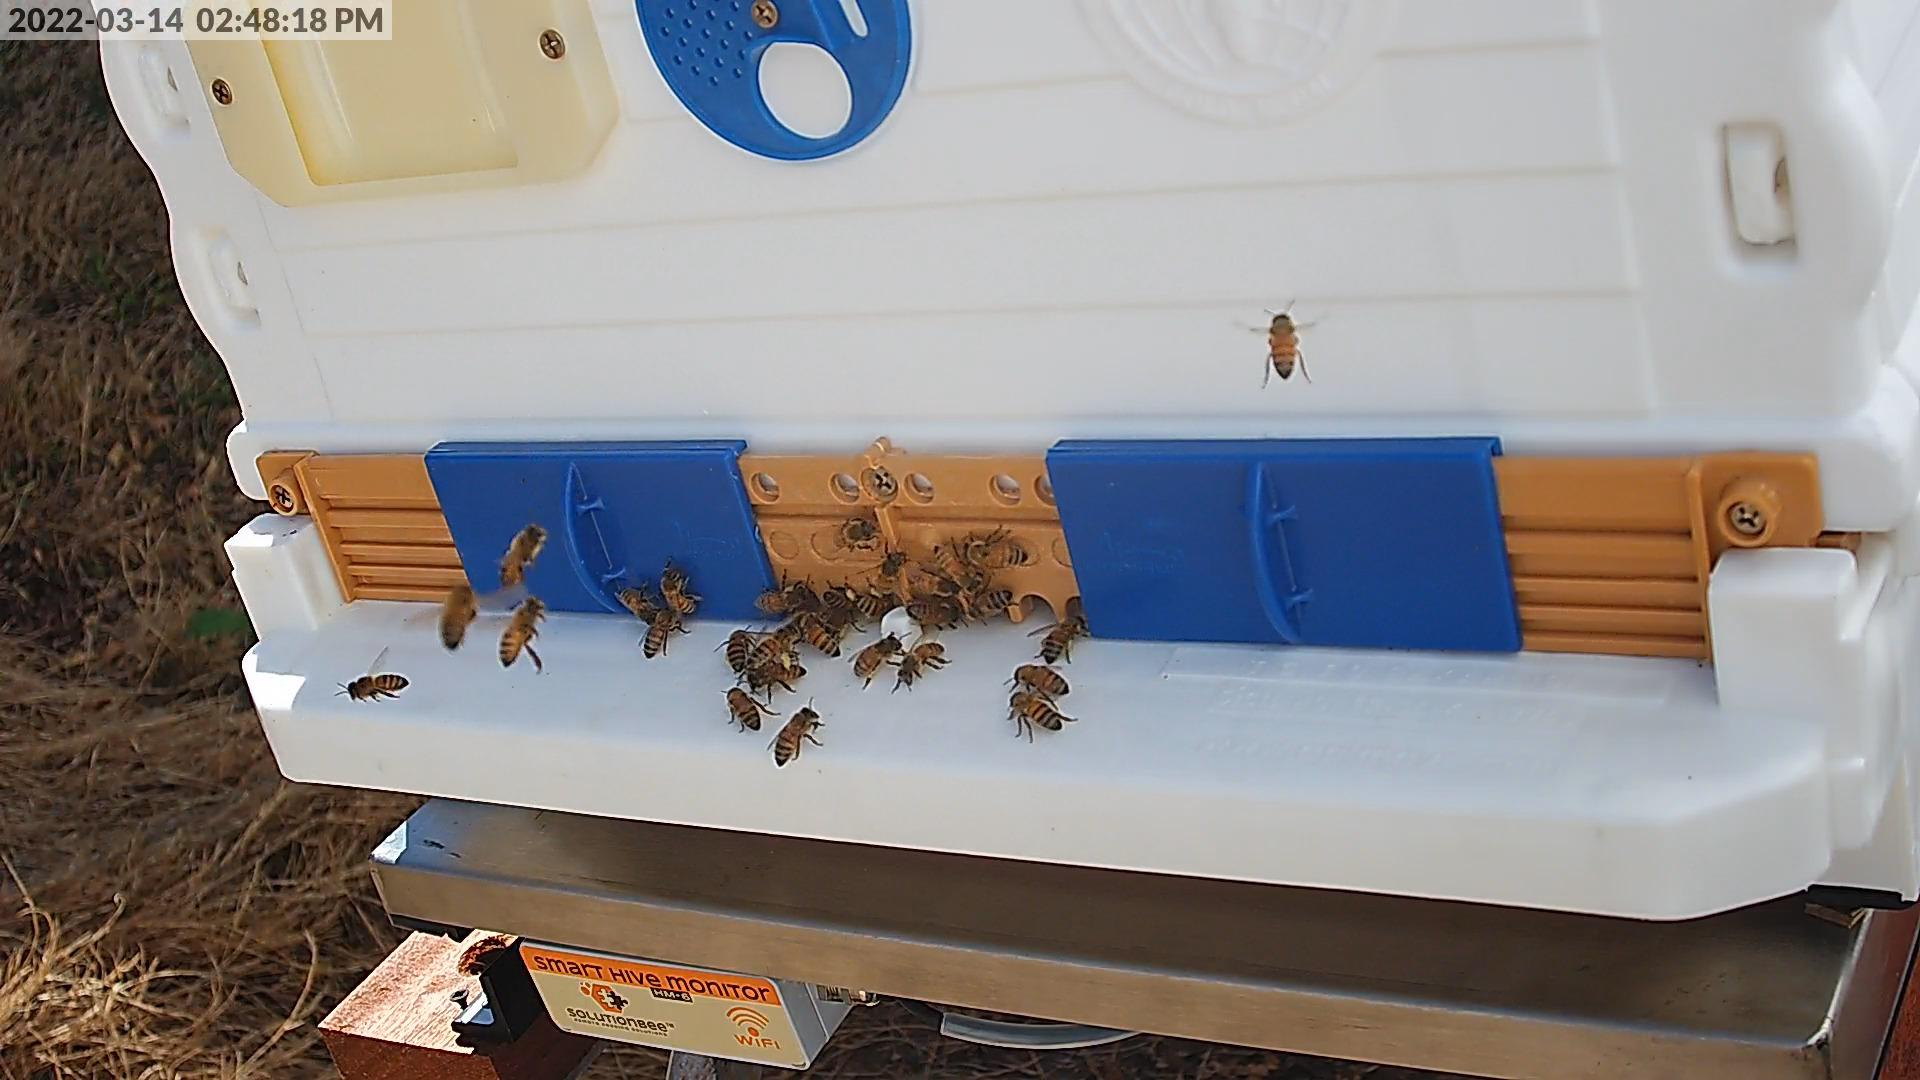bee: (500, 596, 545, 665), (498, 525, 546, 587), (775, 705, 815, 765), (439, 587, 473, 647), (935, 546, 981, 591), (853, 636, 905, 675), (1267, 314, 1299, 376), (898, 642, 947, 682), (1009, 694, 1060, 731), (1044, 615, 1083, 663), (657, 568, 696, 612), (963, 541, 1029, 566), (806, 612, 841, 657), (645, 611, 680, 654), (1017, 666, 1069, 695), (347, 674, 409, 698), (760, 584, 811, 612), (728, 687, 761, 729), (907, 601, 961, 625), (618, 588, 658, 620), (750, 663, 806, 686), (968, 588, 1014, 615), (833, 521, 874, 549), (911, 575, 959, 596), (880, 551, 902, 595), (729, 630, 750, 670), (827, 591, 857, 615)
pollenbee: (750, 622, 800, 667), (847, 587, 897, 615)
